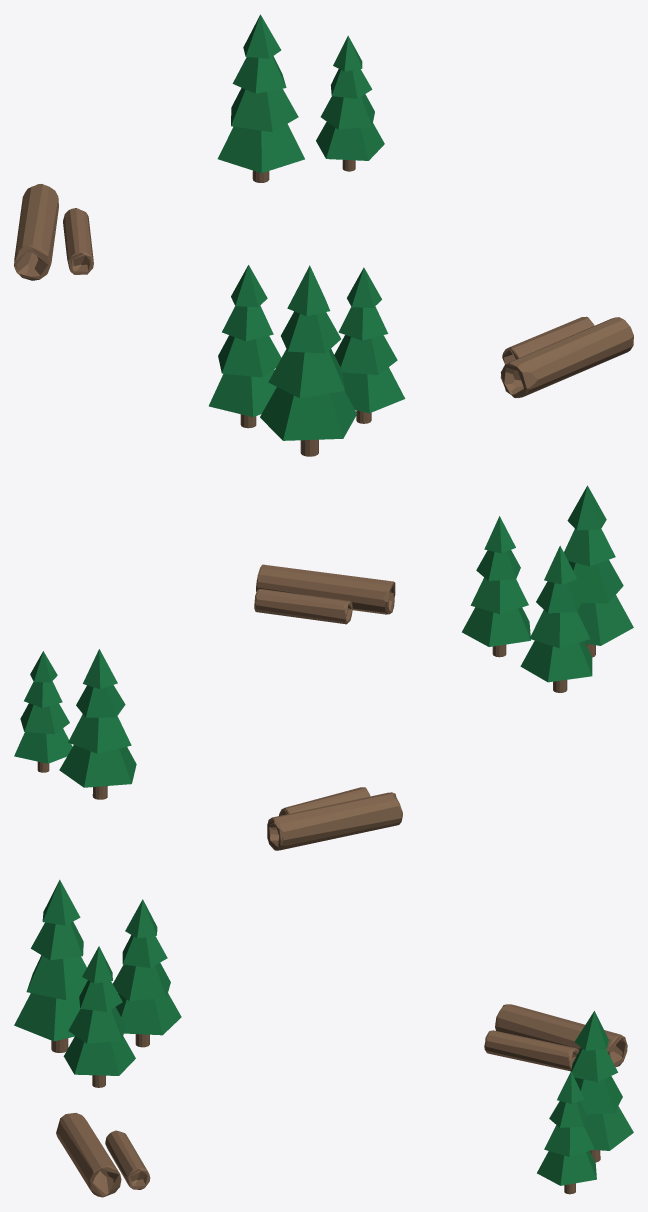
Rendered from Trees.gltf.
3 renders of one model, top to bottom at view 1: azimuth 30°, elevation 25°; view 2: azimuth 150°, elevation 25°; view 3: azimuth 270°, elevation 25°, orthographic. The views are drawn at different scales.
Parts seen in each view (by area): view 1: Leaves.002, Leaves.001, Leaves.005, Leaves.004, Trunks.001, Leaves.003, Trunks, Truns, Truns.001; view 2: Leaves.001, Leaves.002, Leaves.005, Leaves.004, Trunks, Leaves.003, Trunks.001, Truns.001, Truns; view 3: Leaves.002, Leaves.005, Leaves.004, Leaves.001, Leaves.003, Trunks.001, Trunks, Truns, Truns.001.
Boxes of the visible parts, x1,y1,x2,y2 form: Leaves.002: [260, 265, 356, 456]; Leaves.001: [217, 14, 304, 182]; Leaves.005: [209, 265, 281, 428]; Leaves.004: [334, 267, 405, 423]; Trunks.001: [500, 317, 633, 398]; Leaves.003: [316, 35, 384, 171]; Trunks: [14, 184, 58, 280]; Truns: [63, 208, 93, 274]; Truns.001: [502, 316, 594, 364]; Leaves.001: [59, 649, 136, 799]; Leaves.002: [564, 485, 633, 657]; Leaves.005: [520, 545, 592, 692]; Leaves.004: [462, 516, 530, 657]; Trunks: [267, 792, 402, 850]; Leaves.003: [14, 651, 72, 772]; Trunks.001: [256, 564, 395, 614]; Truns.001: [254, 589, 352, 624]; Truns: [279, 787, 370, 815]; Leaves.002: [14, 879, 87, 1052]; Leaves.005: [113, 899, 181, 1047]; Leaves.004: [63, 946, 135, 1087]; Leaves.001: [571, 1011, 633, 1162]; Leaves.003: [537, 1071, 596, 1194]; Trunks.001: [56, 1113, 121, 1197]; Trunks: [495, 1004, 627, 1067]; Truns: [484, 1030, 578, 1071]; Truns.001: [105, 1130, 150, 1189].
Bounding box in the file's own units: 15.13 × 6.78 × 22.15.
2 materials, 1 textured.
